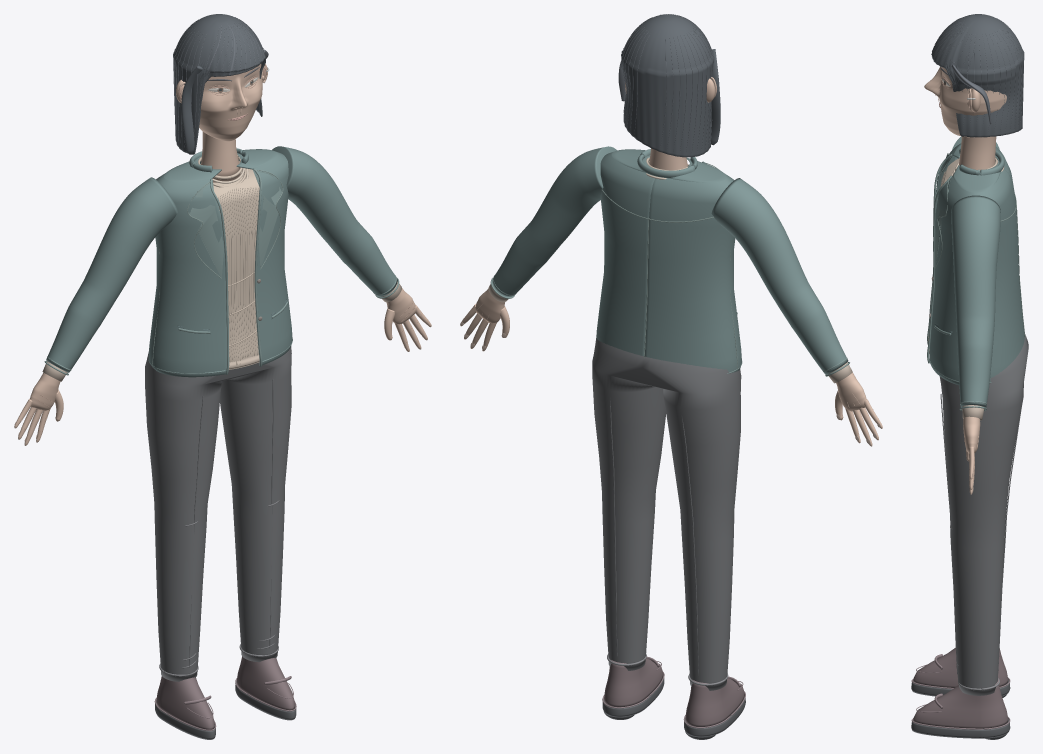
3 renders of one model, left to right at view 1: azimuth 30°, elevation 25°; view 2: azimuth 150°, elevation 25°; view 3: azimuth 270°, elevation 25°, orthographic.
Visible parts, largest first — view 1: Trousers_continuous_tailored_mesh, Jacket_L_tailored_shell, Jacket_L_set_in_sleeve, Jacket_R_set_in_sleeve, Knit_body_fine_drape, Hair_asymmetric_bob_mass, Jacket_R_tailored_shell, 01_Head_sculpted_oval, Shoe_L_leather_upper, Shoe_R_leather_upper, 02_Neck, Jacket_shoulder_top_tailored_shell (+4 smaller); view 2: Trousers_continuous_tailored_mesh, Jacket_L_tailored_shell, Hair_asymmetric_bob_mass, Jacket_R_tailored_shell, Jacket_L_set_in_sleeve, Jacket_R_set_in_sleeve, Shoe_L_leather_upper, Shoe_R_leather_upper, Jacket_shoulder_top_tailored_shell, Hand_L_palm; view 3: Trousers_continuous_tailored_mesh, Jacket_R_tailored_shell, Jacket_R_set_in_sleeve, Hair_asymmetric_bob_mass, Shoe_R_leather_upper, 01_Head_sculpted_oval, Shoe_L_leather_upper, 02_Neck, Shoe_R_outsole, Jacket_shoulder_top_tailored_shell, Hand_R_palm, Jacket_R_bound_front_edge (+9 smaller).
Part boxes in pixels (box(x1,y1,x2,y2)): Trousers_continuous_tailored_mesh: box(145, 346, 291, 681); Jacket_L_tailored_shell: box(148, 161, 226, 377); Jacket_L_set_in_sleeve: box(46, 177, 178, 372); Jacket_R_set_in_sleeve: box(272, 146, 397, 296); Knit_body_fine_drape: box(213, 161, 259, 365); Hair_asymmetric_bob_mass: box(173, 14, 265, 154); Jacket_R_tailored_shell: box(238, 151, 292, 365); 01_Head_sculpted_oval: box(199, 64, 262, 141); Shoe_L_leather_upper: box(156, 676, 214, 729); Shoe_R_leather_upper: box(237, 656, 294, 710); 02_Neck: box(201, 131, 240, 182); Jacket_shoulder_top_tailored_shell: box(164, 149, 277, 181); Trousers_continuous_tailored_mesh: box(592, 338, 741, 690); Jacket_L_tailored_shell: box(644, 162, 741, 372); Hair_asymmetric_bob_mass: box(621, 14, 713, 157); Jacket_R_tailored_shell: box(596, 152, 654, 356); Jacket_L_set_in_sleeve: box(711, 178, 848, 374); Jacket_R_set_in_sleeve: box(492, 146, 616, 297); Shoe_L_leather_upper: box(685, 678, 744, 726); Shoe_R_leather_upper: box(604, 658, 663, 707); Jacket_shoulder_top_tailored_shell: box(611, 149, 726, 182); Hand_L_palm: box(836, 372, 866, 411); Trousers_continuous_tailored_mesh: box(939, 334, 1028, 695); Jacket_R_tailored_shell: box(929, 168, 1024, 385); Jacket_R_set_in_sleeve: box(951, 195, 1000, 407); Hair_asymmetric_bob_mass: box(931, 14, 1024, 137); Shoe_R_leather_upper: box(913, 685, 1008, 728); 01_Head_sculpted_oval: box(924, 66, 1006, 137); Shoe_L_leather_upper: box(913, 648, 1008, 687); 02_Neck: box(959, 136, 996, 170); Shoe_R_outsole: box(911, 719, 1010, 738); Jacket_shoulder_top_tailored_shell: box(952, 144, 1000, 192); Hand_R_palm: box(963, 416, 980, 453); Jacket_R_bound_front_edge: box(927, 175, 951, 363).
Size of the model in its own units: 1.13 by 1.8 by 0.274.
